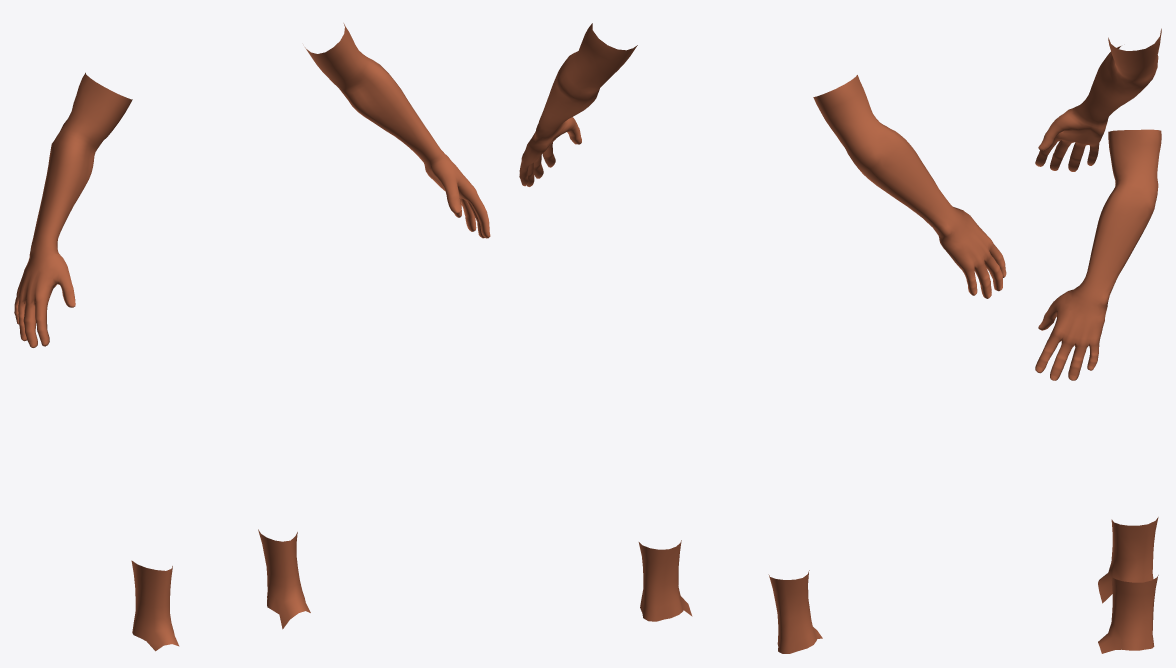
Rendered from skin3.glb.
The picture shows the model from 3 angles, left to right: view 1: azimuth 30°, elevation 25°; view 2: azimuth 150°, elevation 25°; view 3: azimuth 270°, elevation 25°; orthographic projection. The views are drawn at different scales.
Visible parts, largest first — view 1: Wolf3D_Body; view 2: Wolf3D_Body; view 3: Wolf3D_Body.
Boxes of the visible parts, x1,y1,x2,y2 form: Wolf3D_Body: [14, 23, 490, 651]; Wolf3D_Body: [519, 23, 1006, 653]; Wolf3D_Body: [1035, 28, 1161, 653].
Size of the model in its own units: 1.06 by 1.28 by 0.2641.
1 material, 1 textured.
